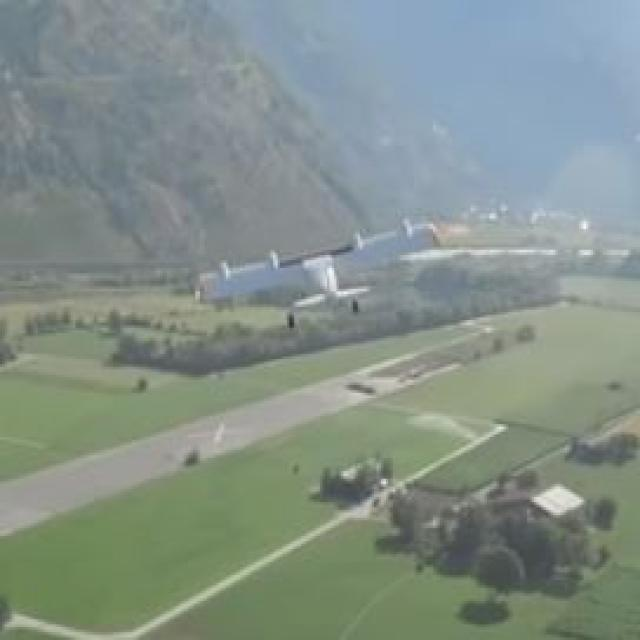iha: (195, 243, 442, 303)
